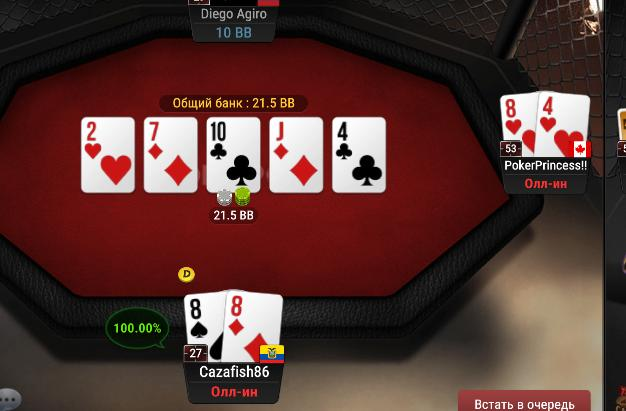10c: (207, 117, 260, 192)
2h: (82, 118, 134, 192)
4c: (333, 118, 387, 193)
4h: (537, 88, 589, 159), (182, 289, 226, 366)
7d: (144, 118, 197, 192)
8d: (225, 289, 284, 362)
8h: (500, 89, 536, 158)
Jd: (271, 117, 323, 191)
